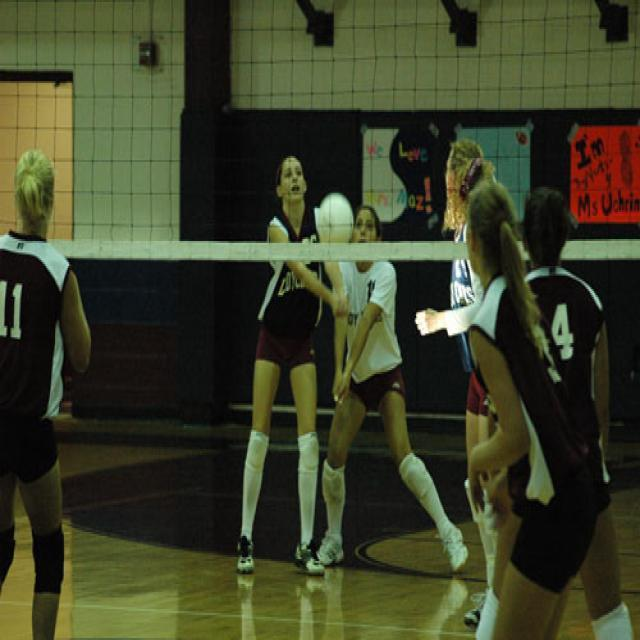volleyball: (318, 194, 356, 243)
